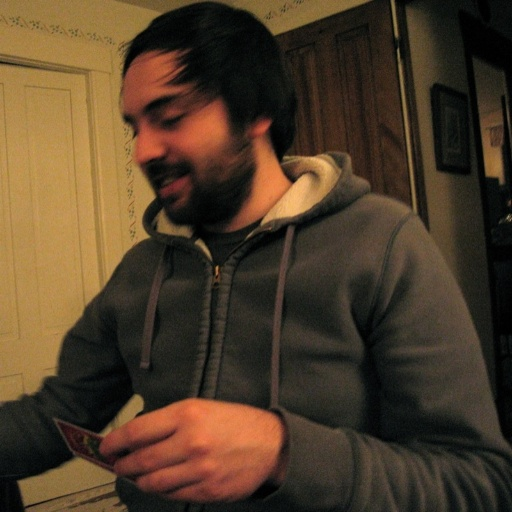hand: (88, 387, 284, 503)
